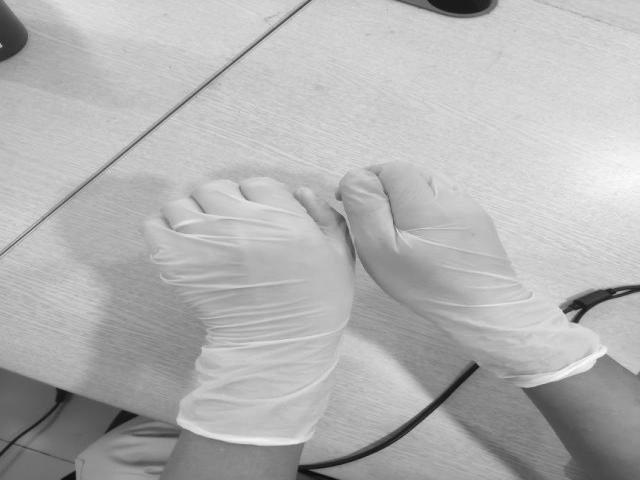gloved: (138, 177, 356, 352), (341, 162, 563, 316)
